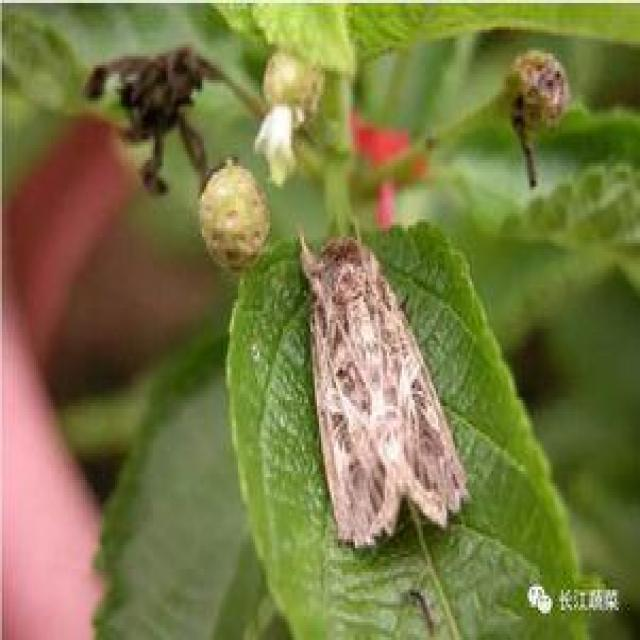BeetArmyWorm-Adult-: (296, 221, 482, 557)
